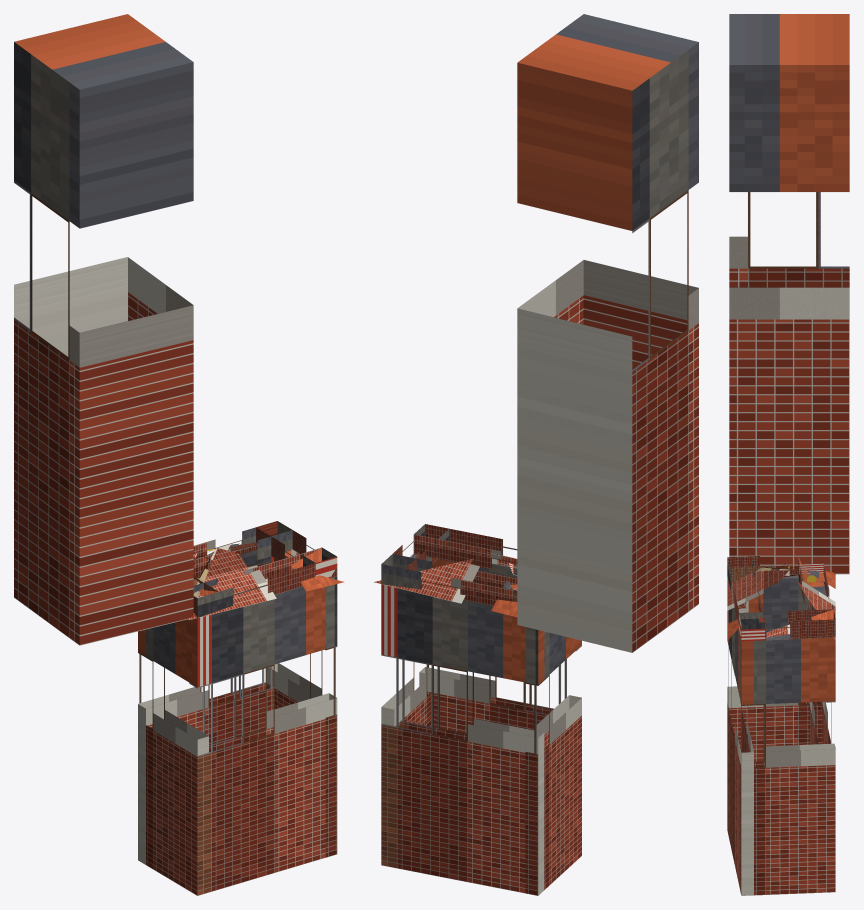
3 renders of one model, left to right at view 1: azimuth 30°, elevation 25°; view 2: azimuth 150°, elevation 25°; view 3: azimuth 270°, elevation 25°, orthographic. The views are drawn at different scales.
Visible parts, largest first — view 1: 717952681__chimney_0_xb, 717952681__wall_1_xb, 717952681__wall_0_xb, 717952681__wall_3_xb, 717952681__wall_2_xb, 717952681_roof_front_xb, 717952681__cornice_1, 717952681__cornice_3, 717952681__cornice_2; view 2: 717952681__chimney_0_xb, 717952681__wall_3_xb, 717952681__wall_0_xb, 717952681__wall_1_xb, 717952681__cornice_3, 717952681__cornice_1, 717952681_roof_back_xb, 717952681__wall_2_xb; view 3: 717952681__chimney_0_xb, 717952681__wall_2_xb, 717952681__wall_1_xb, 717952681__wall_0_xb, 717952681__cornice_2, 717952681_roof_front_xb, 717952681__cornice_0, 717952681__cornice_1, 717952681__wall_3_xb, 717952681_roof_back_xb, 717952681__cornice_3.
Part boxes in pixels (x1=…): 717952681__chimney_0_xb: x1=14, y1=14, x2=193, y2=645; 717952681__wall_1_xb: x1=189, y1=586, x2=337, y2=895; 717952681__wall_0_xb: x1=138, y1=618, x2=208, y2=895; 717952681__wall_3_xb: x1=138, y1=550, x2=273, y2=864; 717952681__wall_2_xb: x1=266, y1=550, x2=337, y2=857; 717952681_roof_front_xb: x1=189, y1=548, x2=344, y2=619; 717952681__cornice_1: x1=193, y1=547, x2=337, y2=617; 717952681__cornice_3: x1=193, y1=521, x2=292, y2=577; 717952681__cornice_2: x1=256, y1=521, x2=337, y2=577; 717952681__chimney_0_xb: x1=517, y1=14, x2=698, y2=652; 717952681__wall_3_xb: x1=381, y1=584, x2=544, y2=895; 717952681__wall_0_xb: x1=525, y1=627, x2=581, y2=895; 717952681__wall_1_xb: x1=419, y1=558, x2=581, y2=733; 717952681__cornice_3: x1=381, y1=554, x2=517, y2=605; 717952681__cornice_1: x1=414, y1=524, x2=517, y2=568; 717952681_roof_back_xb: x1=373, y1=558, x2=517, y2=617; 717952681__wall_2_xb: x1=381, y1=554, x2=431, y2=727; 717952681__chimney_0_xb: x1=729, y1=14, x2=849, y2=574; 717952681__wall_2_xb: x1=740, y1=634, x2=835, y2=895; 717952681__wall_1_xb: x1=727, y1=608, x2=753, y2=895; 717952681__wall_0_xb: x1=727, y1=574, x2=822, y2=761; 717952681__cornice_2: x1=739, y1=609, x2=835, y2=640; 717952681_roof_front_xb: x1=727, y1=570, x2=789, y2=640; 717952681__cornice_0: x1=727, y1=556, x2=823, y2=583; 717952681__cornice_1: x1=727, y1=557, x2=765, y2=641; 717952681__wall_3_xb: x1=808, y1=577, x2=835, y2=744; 717952681_roof_back_xb: x1=797, y1=570, x2=835, y2=640; 717952681__cornice_3: x1=798, y1=556, x2=833, y2=620.
Bounding box in the file's own units: 0.348 × 1.05 × 0.1525.
Materials: 1 (1 with a texture image).
